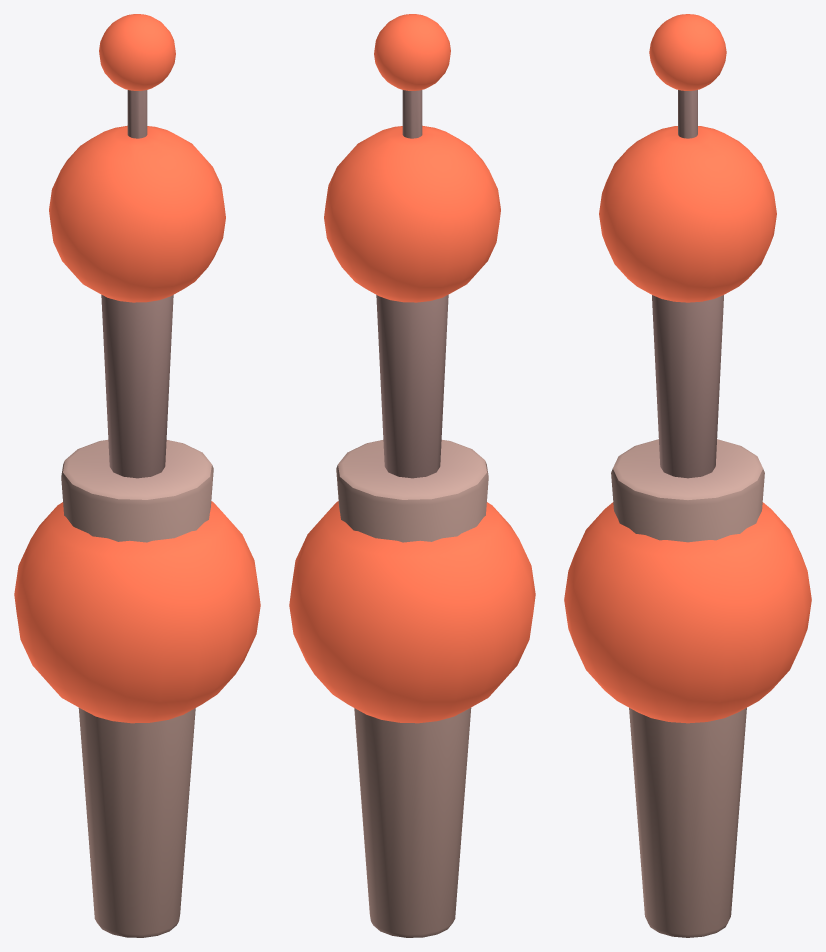
3 renders of one model, left to right at view 1: azimuth 30°, elevation 25°; view 2: azimuth 150°, elevation 25°; view 3: azimuth 270°, elevation 25°, orthographic.
Parts seen in each view (by area): view 1: landmark_5ce43b91; view 2: landmark_5ce43b91; view 3: landmark_5ce43b91.
Boxes of the visible parts, box(x1,y1,x2,y2) form: landmark_5ce43b91: box(14, 14, 260, 937); landmark_5ce43b91: box(289, 14, 535, 937); landmark_5ce43b91: box(564, 14, 811, 937).
Size of the model in its own units: 3.2 by 12.9 by 3.2.
